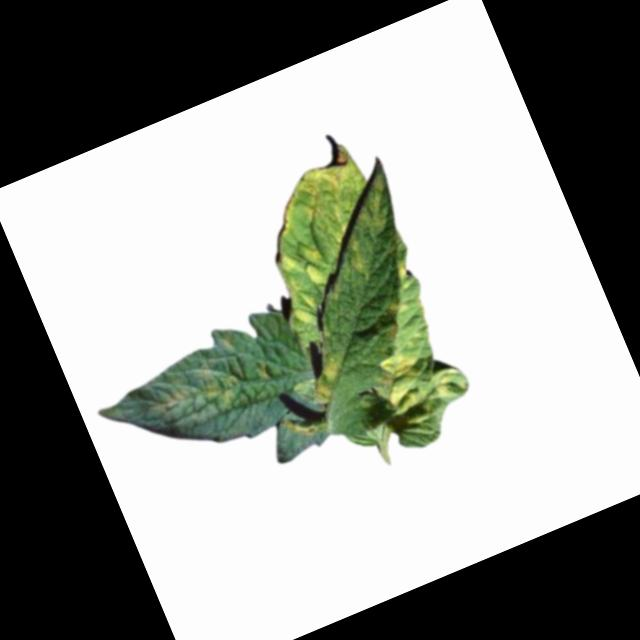Leaf_Mold: (240, 135, 427, 326), (144, 348, 276, 433), (362, 327, 471, 428), (298, 353, 353, 410)
